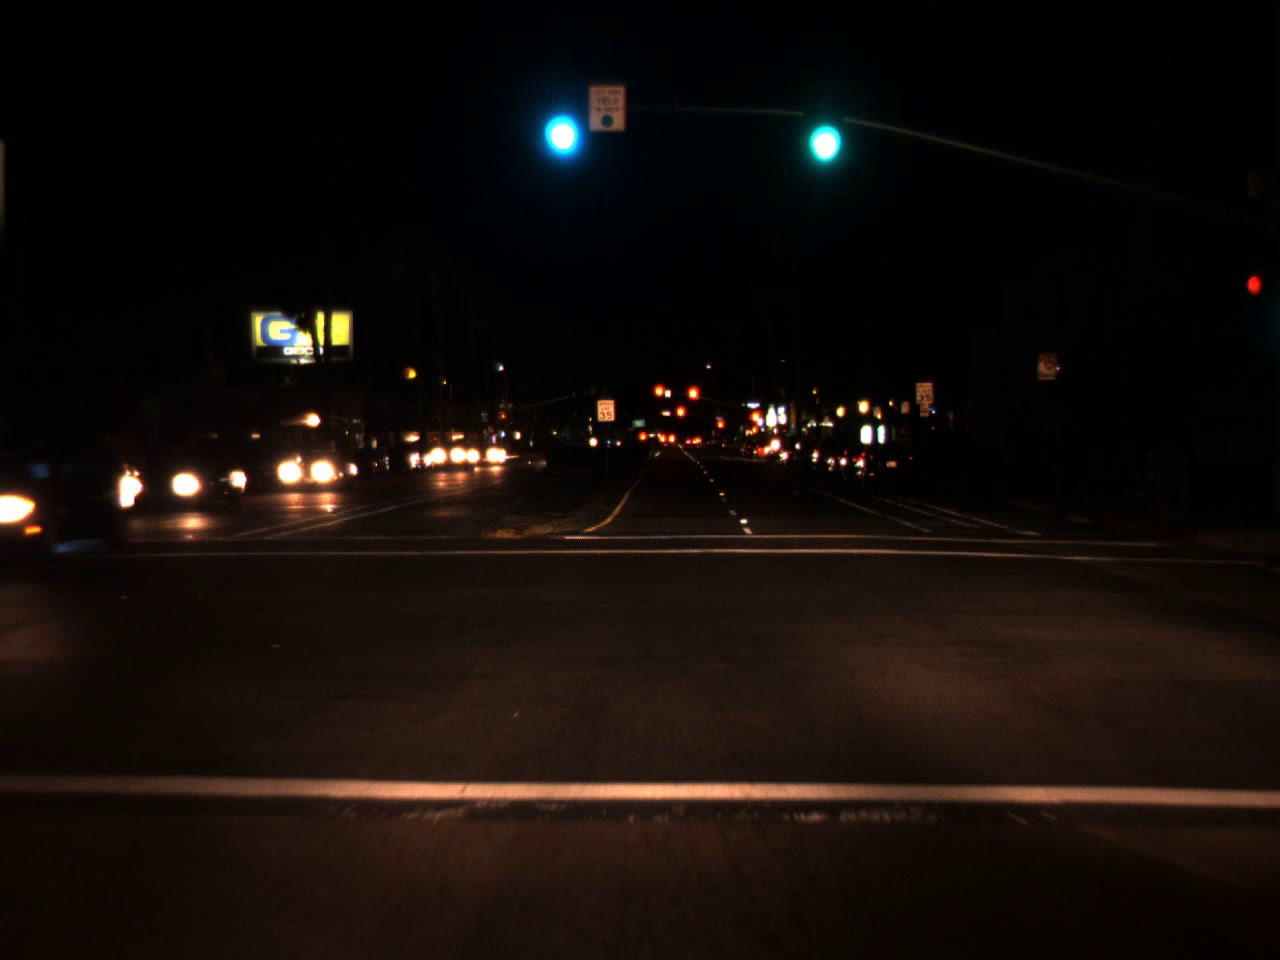go: (799, 86, 844, 173), (541, 90, 580, 159)
stop: (652, 383, 668, 410), (686, 384, 699, 416), (749, 409, 762, 441), (675, 403, 687, 430), (716, 418, 725, 436), (501, 413, 507, 423)
